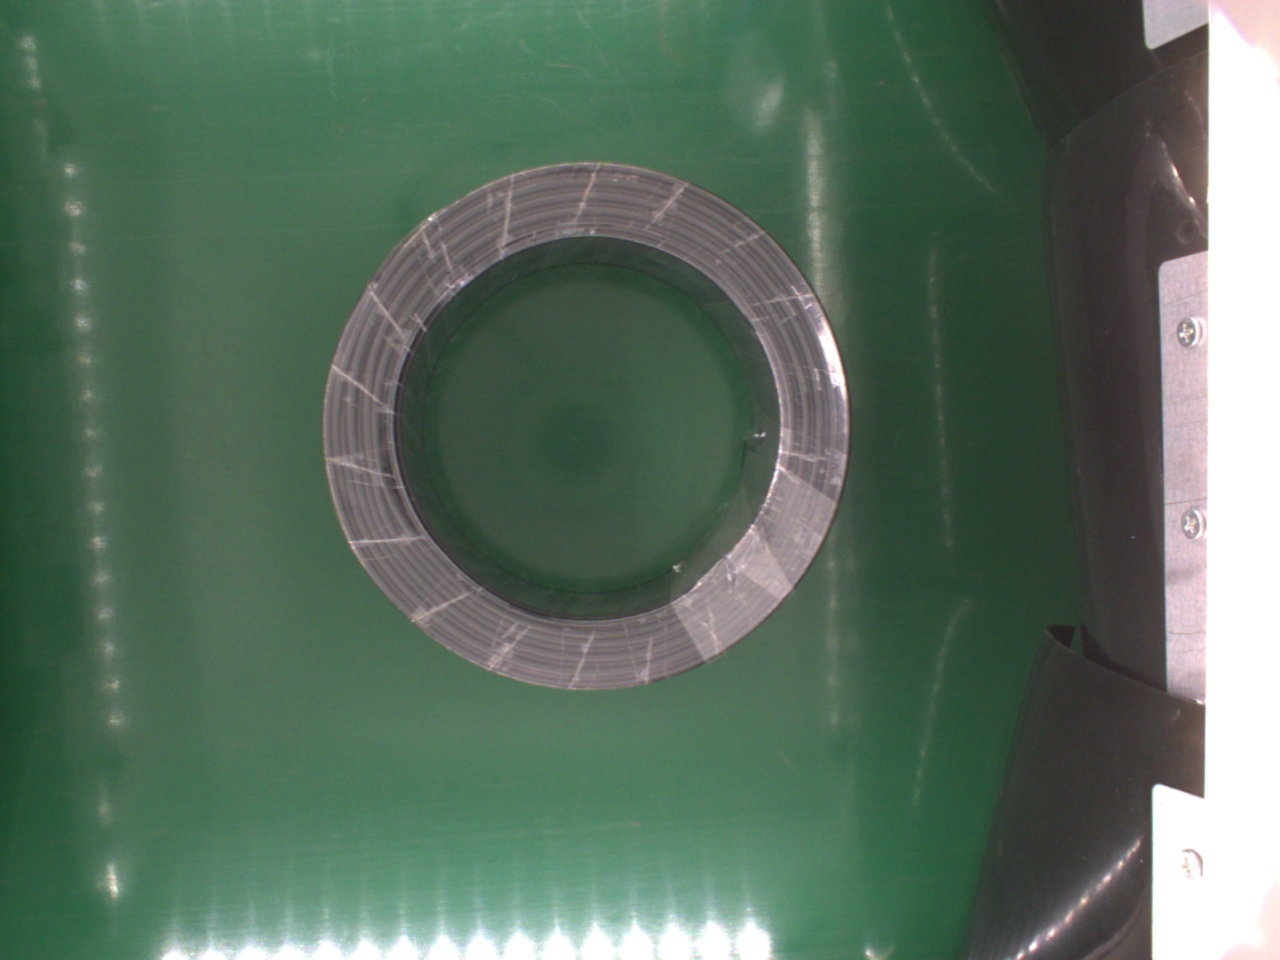black: (317, 160, 848, 690)
